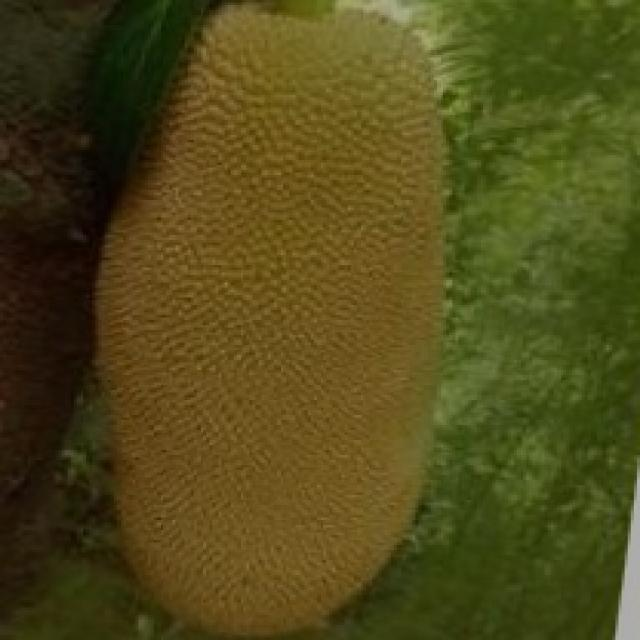Fruit: (74, 0, 495, 335), (206, 232, 511, 640)
